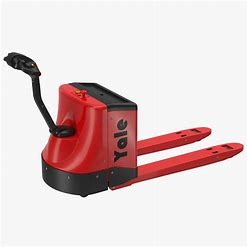Pallet Jack: (2, 51, 244, 199)
